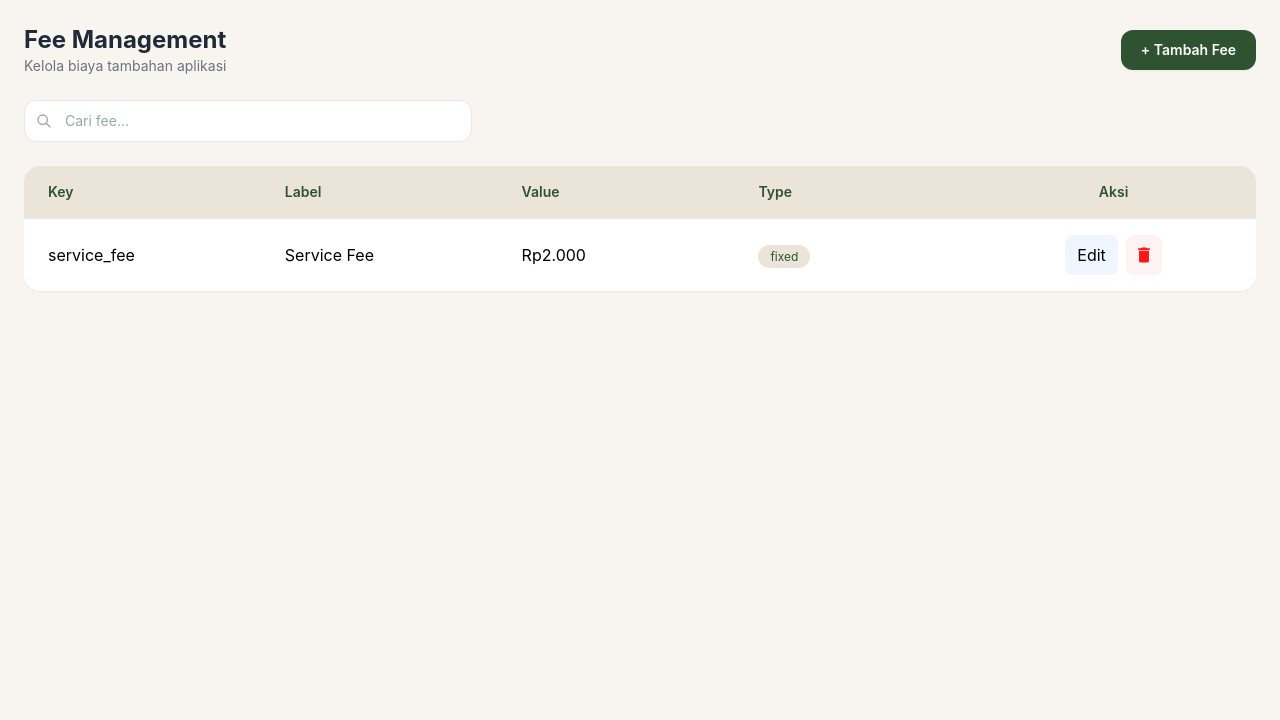
Test case: FeeManagement Page › membuka modal edit dengan data terisi
Check: the text "Service Fee" is shown, box [285, 245, 374, 265]
Click the button "Edit" at (1092, 255), box [1065, 235, 1118, 275]
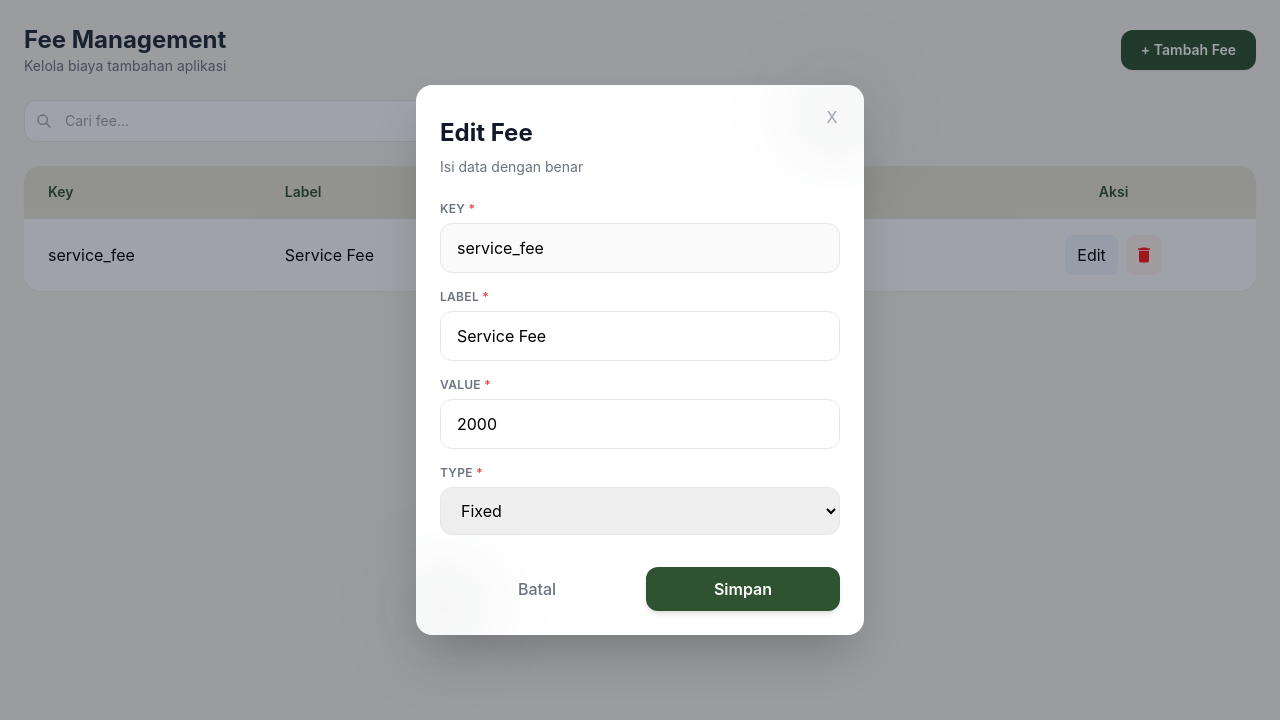
Check: the 1st field showing "service_fee" is disabled, box [440, 223, 840, 273]
Check: the 2nd field showing "Service Fee" is shown, box [440, 311, 840, 361]
Check: the number field showing "2000" is shown, box [440, 399, 840, 449]
